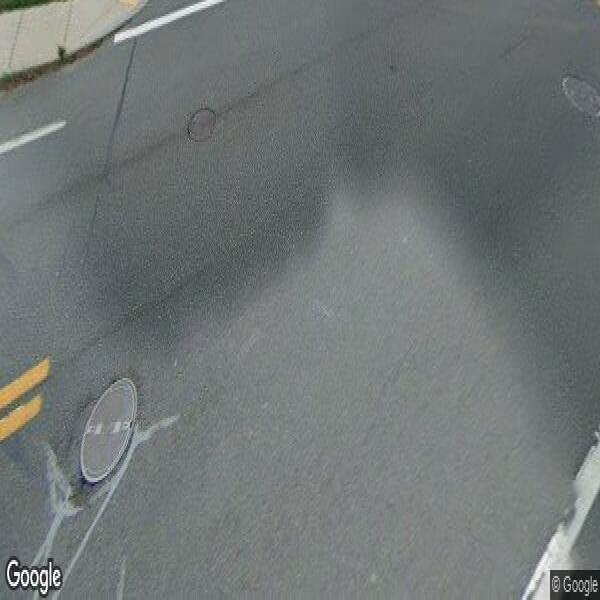manhole: (68, 352, 143, 496), (558, 68, 600, 137)
